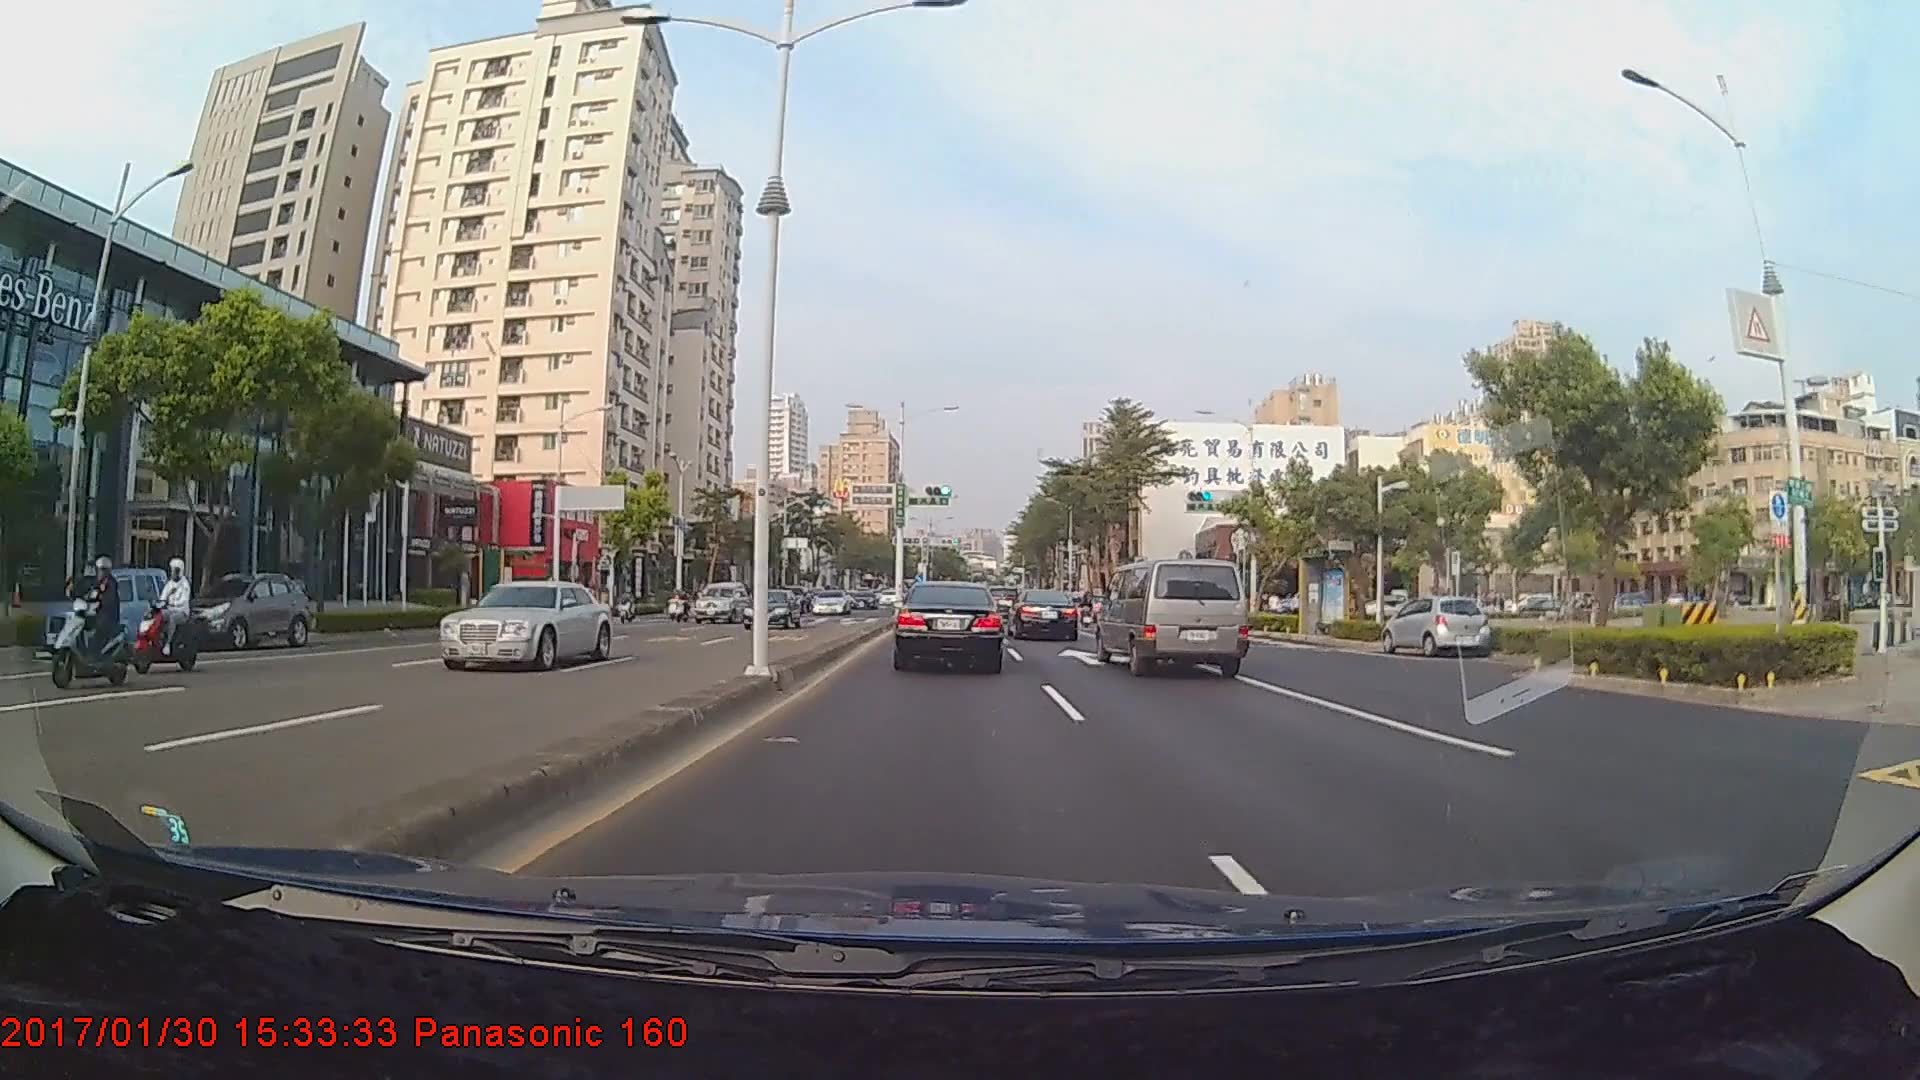rider: (46, 557, 137, 694), (118, 555, 202, 676)
vehicle: (1094, 554, 1252, 677), (432, 578, 611, 670), (37, 566, 182, 656), (174, 568, 307, 651), (892, 580, 1005, 672), (1382, 596, 1487, 657), (1007, 588, 1081, 643), (690, 579, 748, 624), (743, 586, 804, 627), (811, 586, 851, 612)
